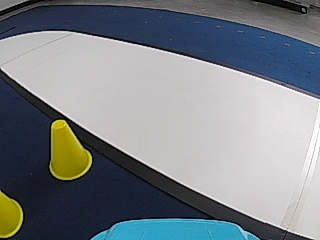cone: (48, 119, 92, 180), (1, 192, 22, 235)
